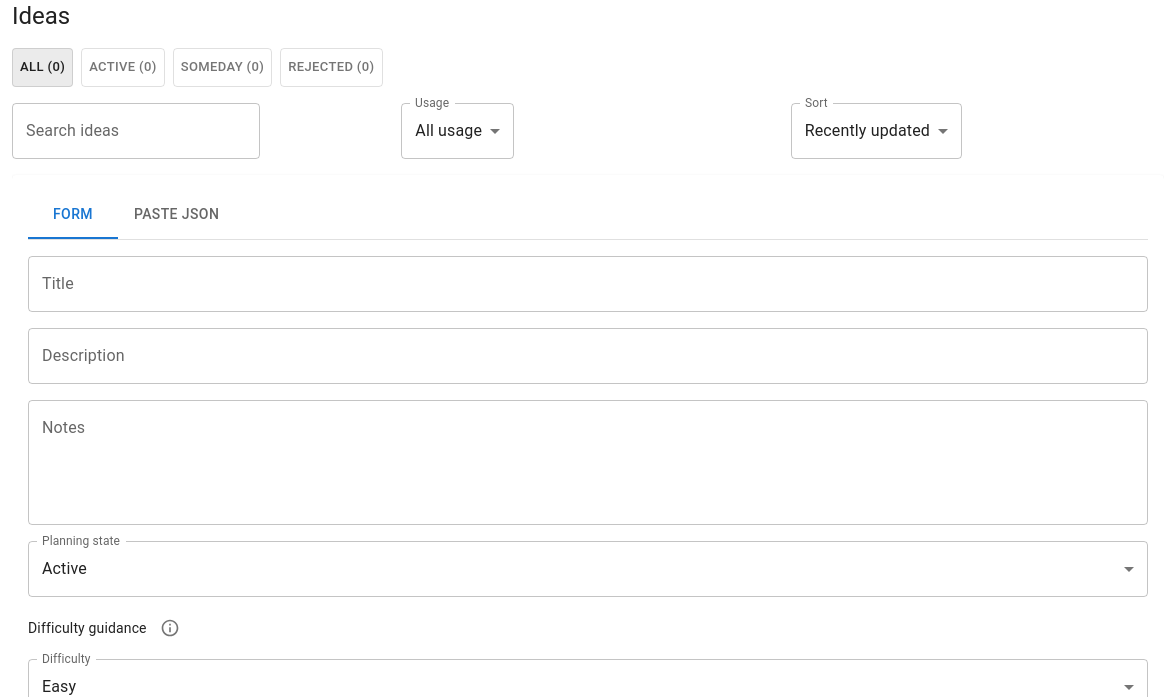
Test: Ideas › requires a rejection reason for rejected ideas
Type "Night lake swim" into the field labelled "Title" at (588, 284), box [28,256,1148,312]
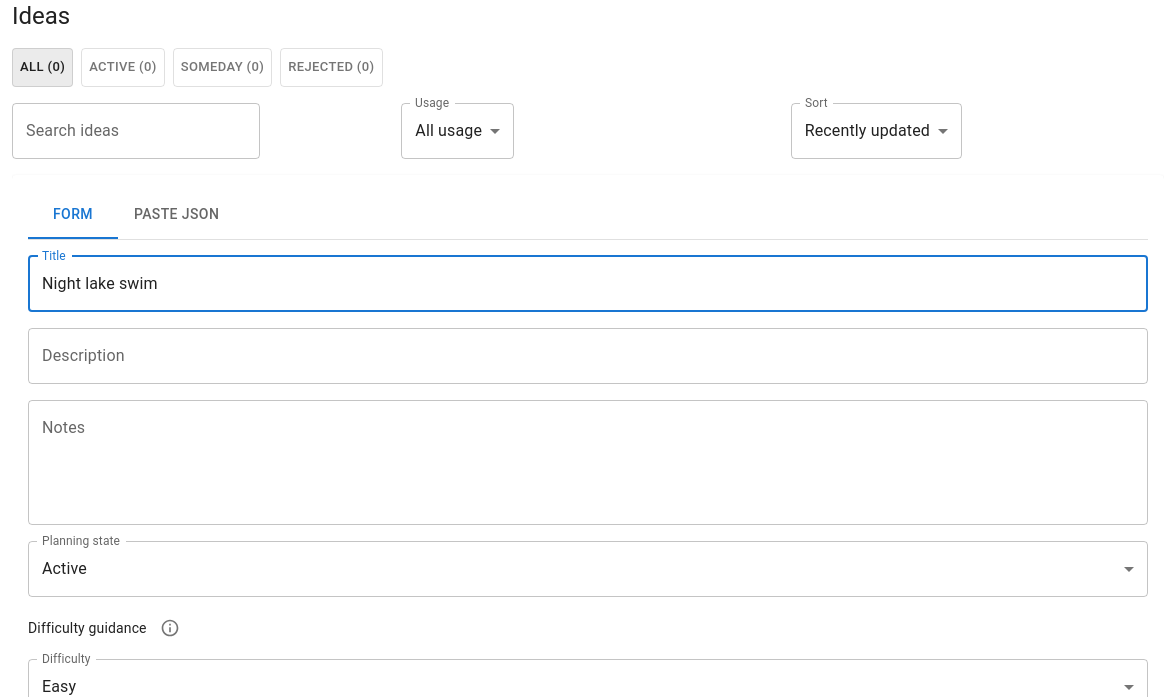
Click the dropdown named "Planning state" at (64, 569), box [42,559,87,578]
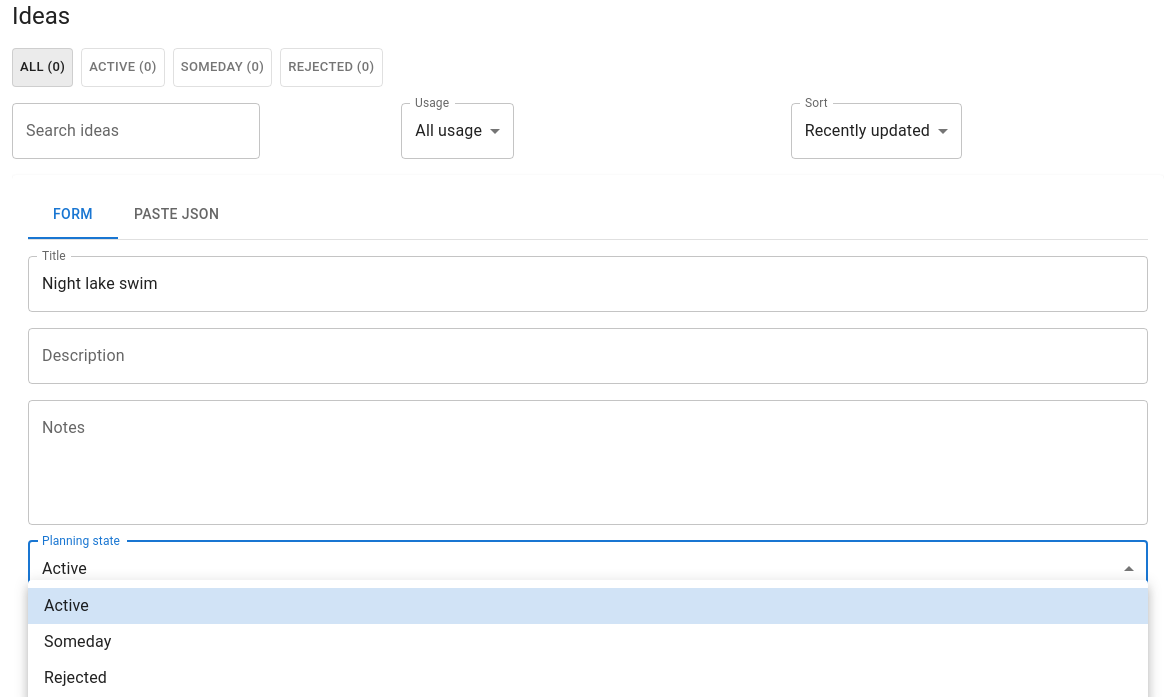
Click the option "Rejected" at (76, 678), box [44,668,107,687]
(page scrolled)
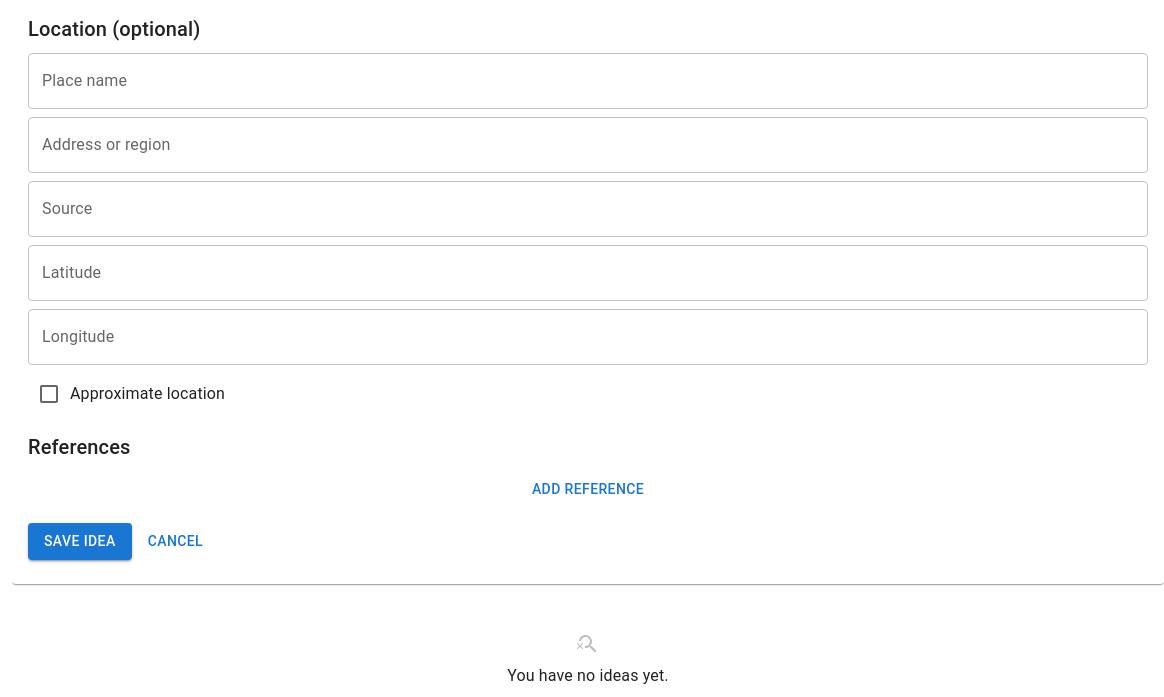
Click the button "Save idea" at (80, 542), box [28,523,132,560]
(page scrolled)
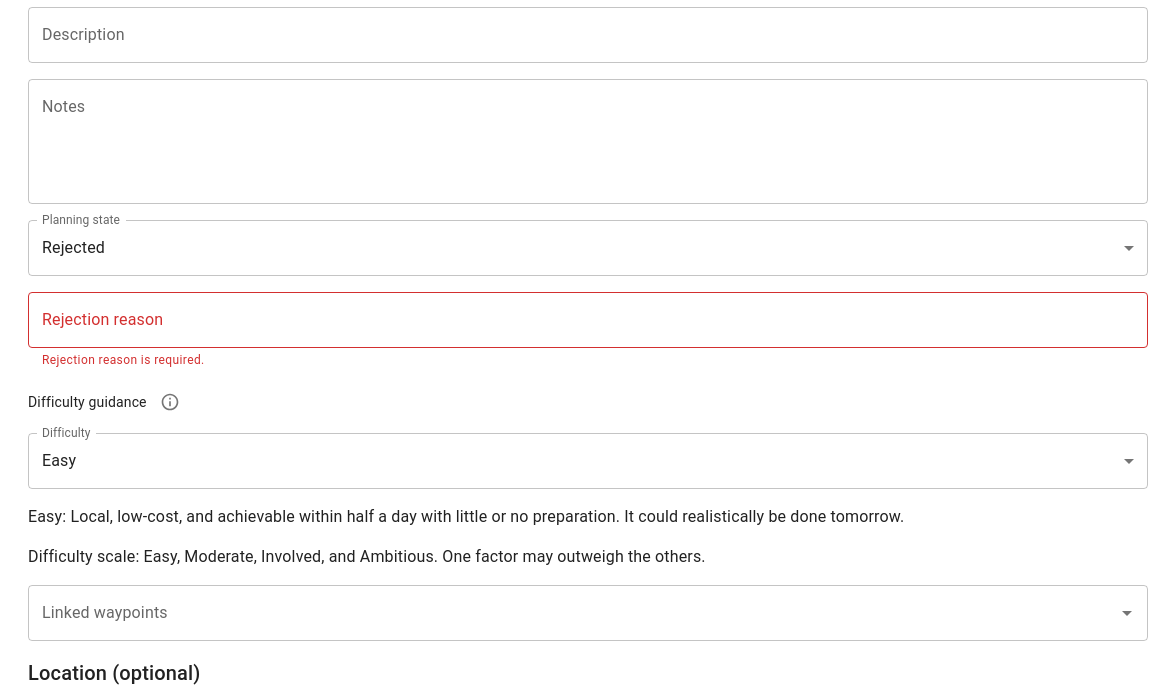
Check: the text "Rejection reason is required." is shown, box [42,353,205,367]
